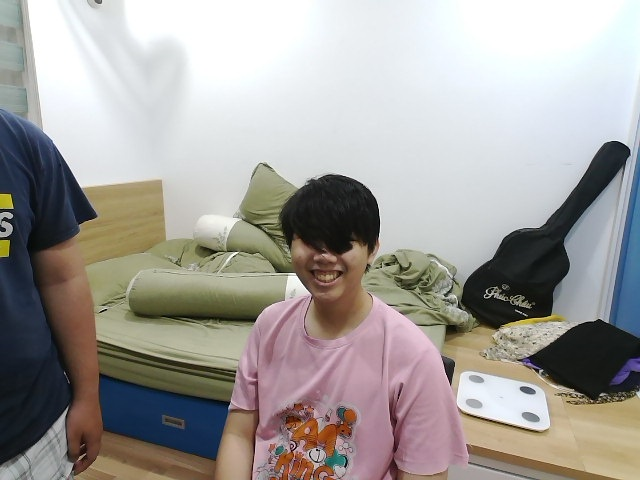face: (279, 173, 380, 302)
